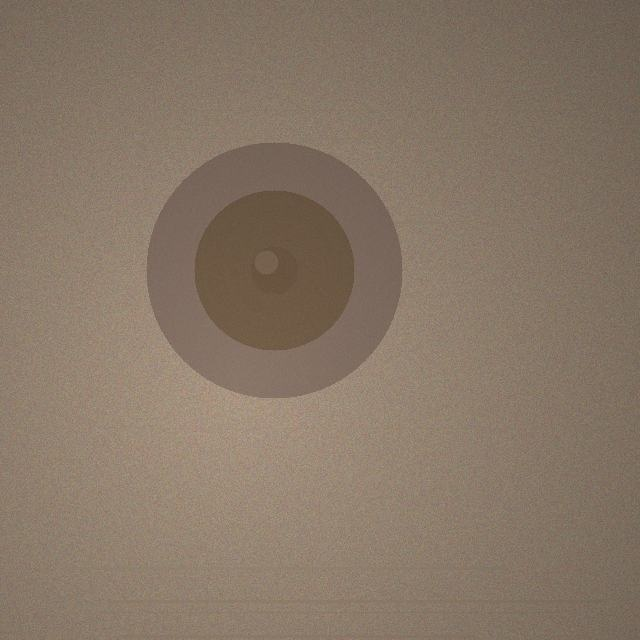good: (146, 142, 402, 398)
